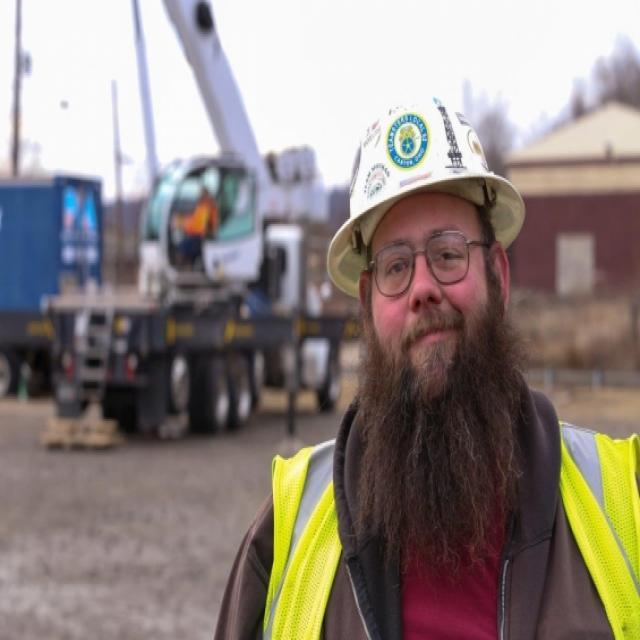Reflective-Jacket: (260, 378, 640, 636)
Safety-Helmet: (324, 85, 526, 294)
